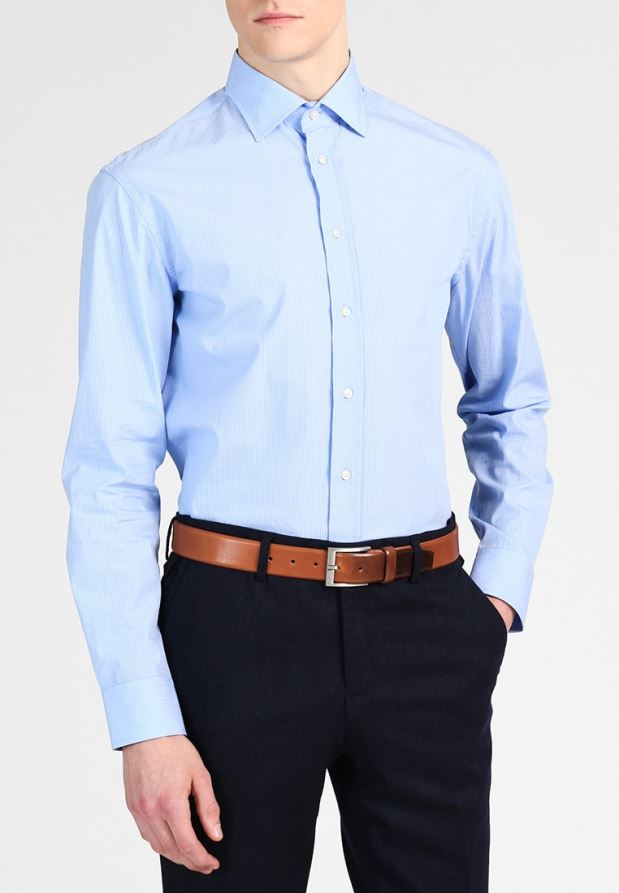F_belt: (154, 514, 465, 606)
F_dress pants: (145, 517, 500, 885)
F_shirt: (69, 42, 545, 759)
